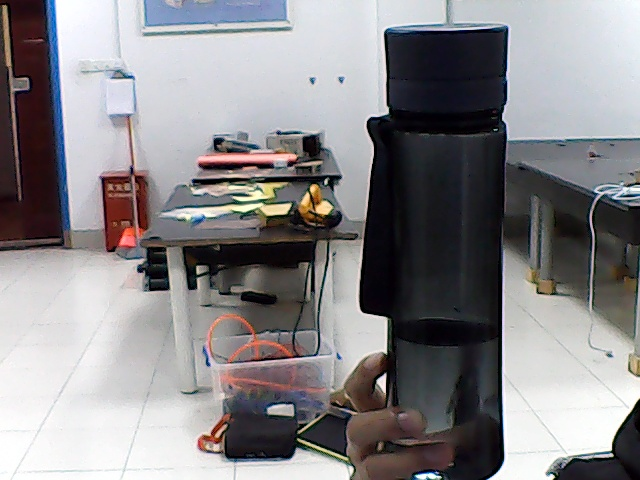cup: (392, 38, 493, 400)
